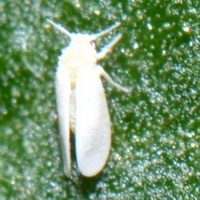insect: (48, 20, 120, 176)
